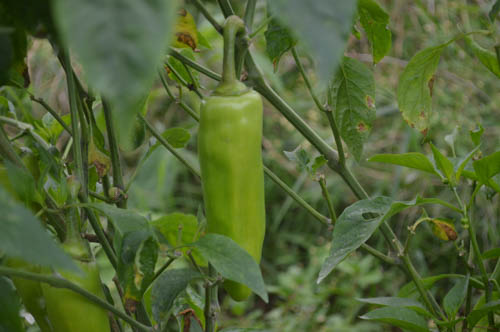ChiliPepper: (201, 93, 265, 301), (49, 256, 107, 332)
